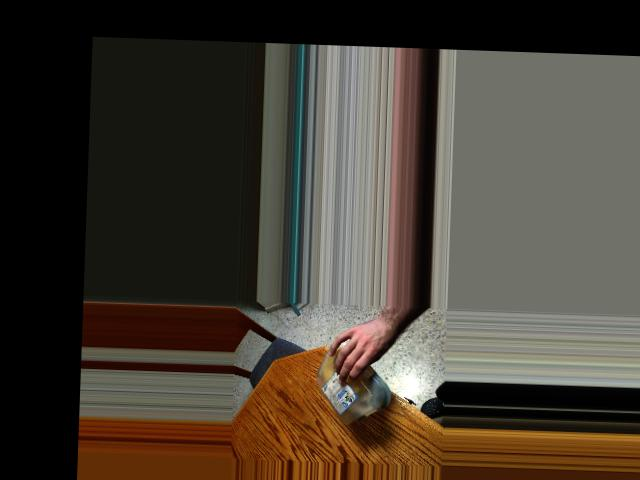cheese: (311, 330, 389, 427)
